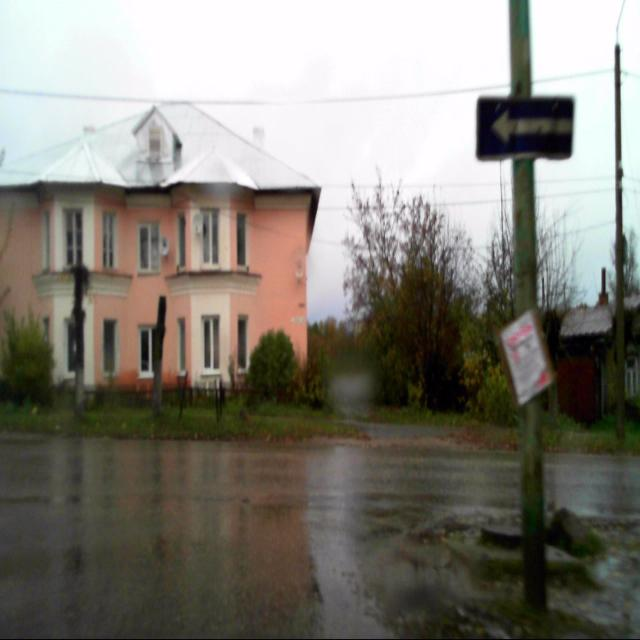road sign: (475, 96, 574, 162)
